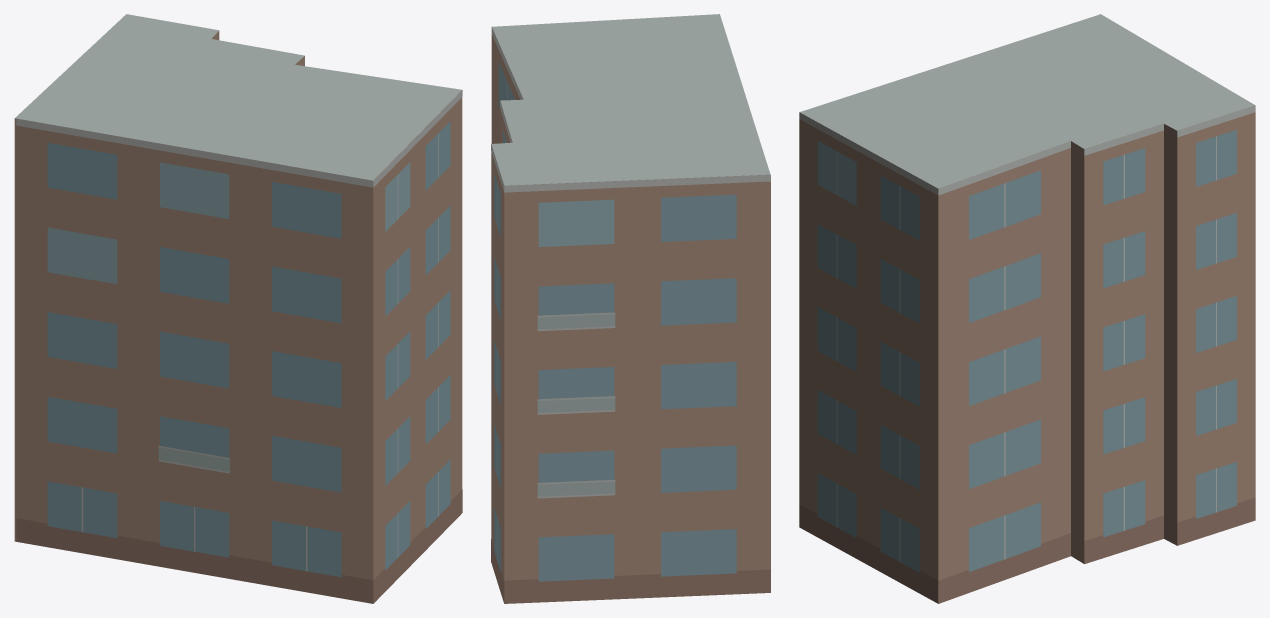
The model's file is survey-upis-32929134.glb.
The picture shows the model from 3 angles, left to right: view 1: azimuth 30°, elevation 25°; view 2: azimuth 150°, elevation 25°; view 3: azimuth 270°, elevation 25°; orthographic projection.
Parts seen in each view (by area): view 1: survey-upis-32929134.tmp; view 2: survey-upis-32929134.tmp; view 3: survey-upis-32929134.tmp.
Part boxes in pixels (bbox=[...]): survey-upis-32929134.tmp: bbox=[14, 14, 462, 603]; survey-upis-32929134.tmp: bbox=[491, 14, 770, 603]; survey-upis-32929134.tmp: bbox=[799, 14, 1255, 603].
Bounding box in the file's own units: 13.37 × 14.8 × 14.75.
